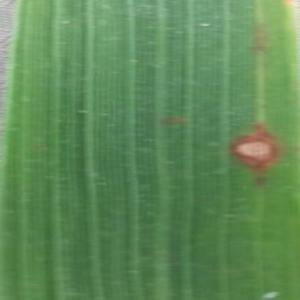Rice_Blast: (208, 104, 288, 180)
